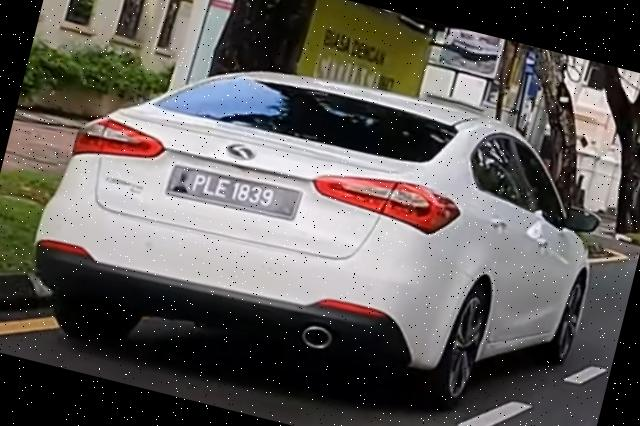License_Plate: (166, 160, 304, 226)
car: (13, 14, 627, 426)
